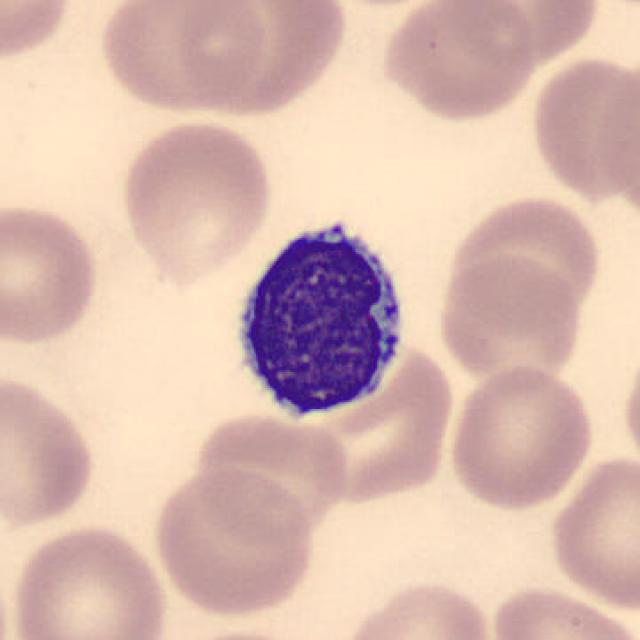Lymphocyte: (215, 204, 420, 436)
RBC: (115, 114, 278, 286), (295, 337, 457, 508), (149, 462, 320, 621), (441, 190, 606, 334), (443, 360, 597, 513), (186, 406, 354, 543), (171, 0, 352, 120), (92, 0, 268, 118), (377, 0, 539, 125), (434, 254, 588, 384), (6, 520, 172, 640), (526, 51, 636, 206), (0, 370, 100, 534), (0, 199, 103, 349), (544, 450, 638, 614), (332, 575, 500, 640), (444, 0, 602, 67), (487, 582, 638, 640), (0, 0, 76, 67), (618, 338, 640, 477)
